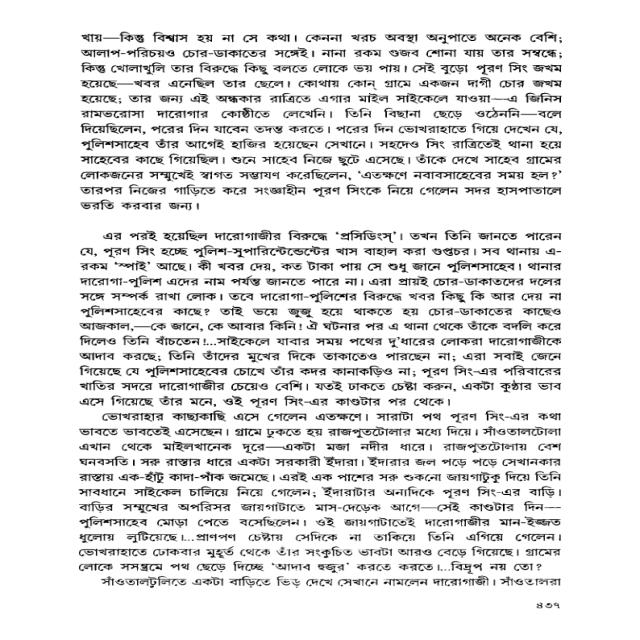page number: (533, 598, 564, 614)
paragraph: (78, 29, 567, 213), (76, 231, 567, 408), (77, 410, 567, 573), (96, 574, 571, 588)
